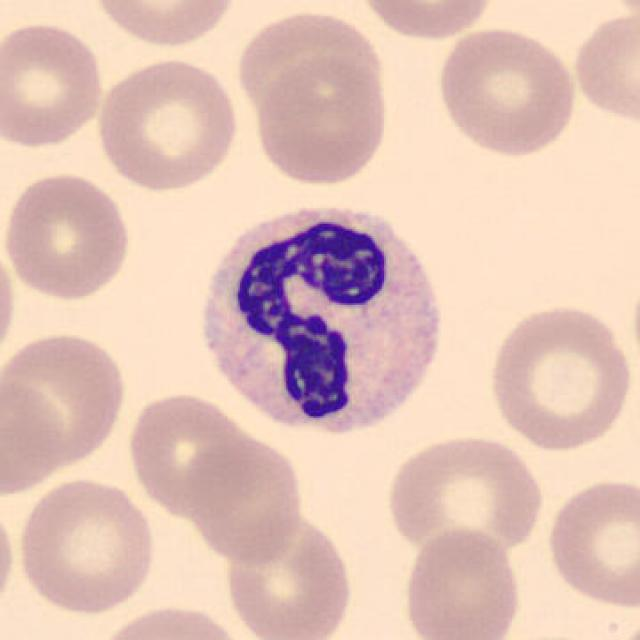Neutrophil: (188, 190, 454, 448)
RBC: (482, 300, 634, 453), (382, 428, 548, 559), (12, 474, 160, 617), (92, 53, 242, 194), (432, 23, 581, 160), (249, 51, 393, 189), (2, 326, 130, 480), (0, 168, 137, 304), (218, 508, 356, 638), (233, 7, 387, 122), (124, 388, 258, 518), (183, 430, 306, 566), (399, 523, 524, 640), (0, 17, 108, 151), (542, 473, 640, 610), (0, 370, 71, 497), (569, 7, 640, 127), (85, 0, 242, 51), (350, 0, 501, 42), (90, 601, 250, 640), (0, 229, 21, 368), (0, 494, 18, 622), (585, 0, 640, 21), (604, 615, 638, 640)
